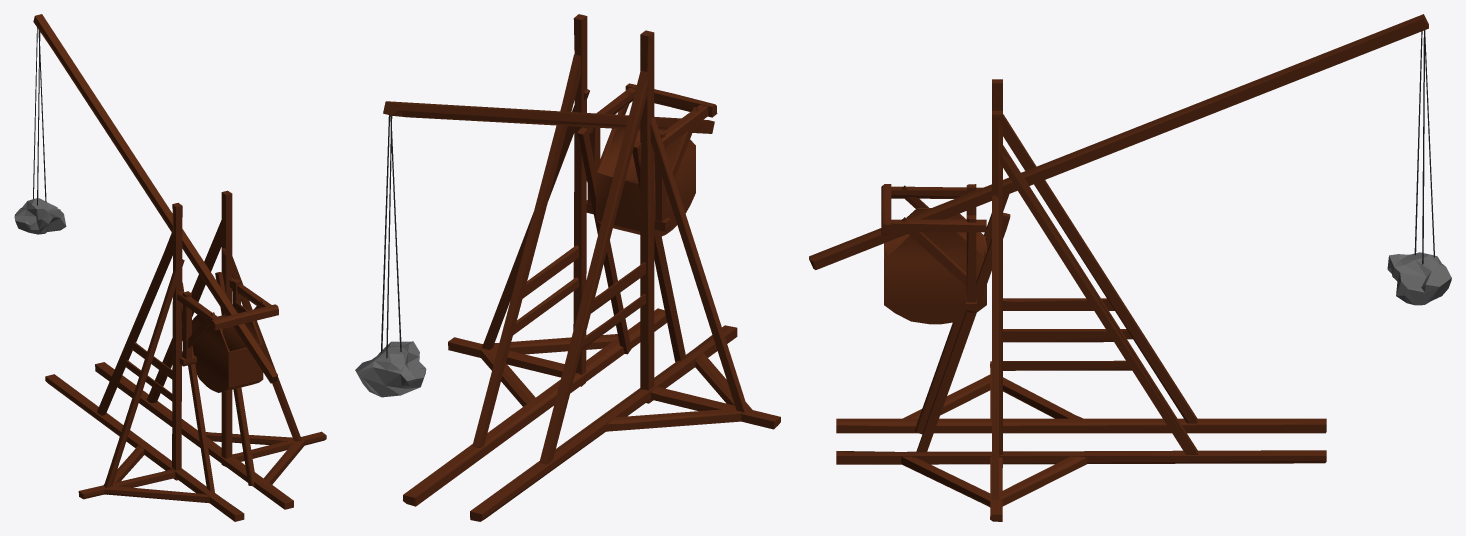
Rendered from SM_trebuchet.fbx.
3 renders of one model, left to right at view 1: azimuth 30°, elevation 25°; view 2: azimuth 150°, elevation 25°; view 3: azimuth 270°, elevation 25°, orthographic. The views are drawn at different scales.
Parts seen in each view (by area): view 1: Object116; view 2: Object116; view 3: Object116.
Boxes of the visible parts, x1=… form: Object116: x1=14, y1=14, x2=326, y2=521; Object116: x1=355, y1=14, x2=780, y2=521; Object116: x1=809, y1=14, x2=1451, y2=521.
Size of the model in its own units: 233 by 413 by 308.
